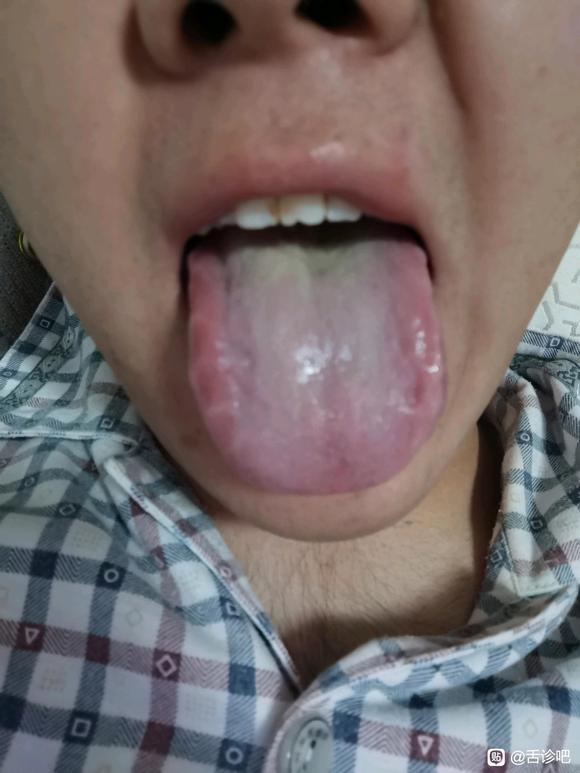chihenshe: (189, 301, 239, 452)
huangtaishe: (188, 220, 445, 494)
